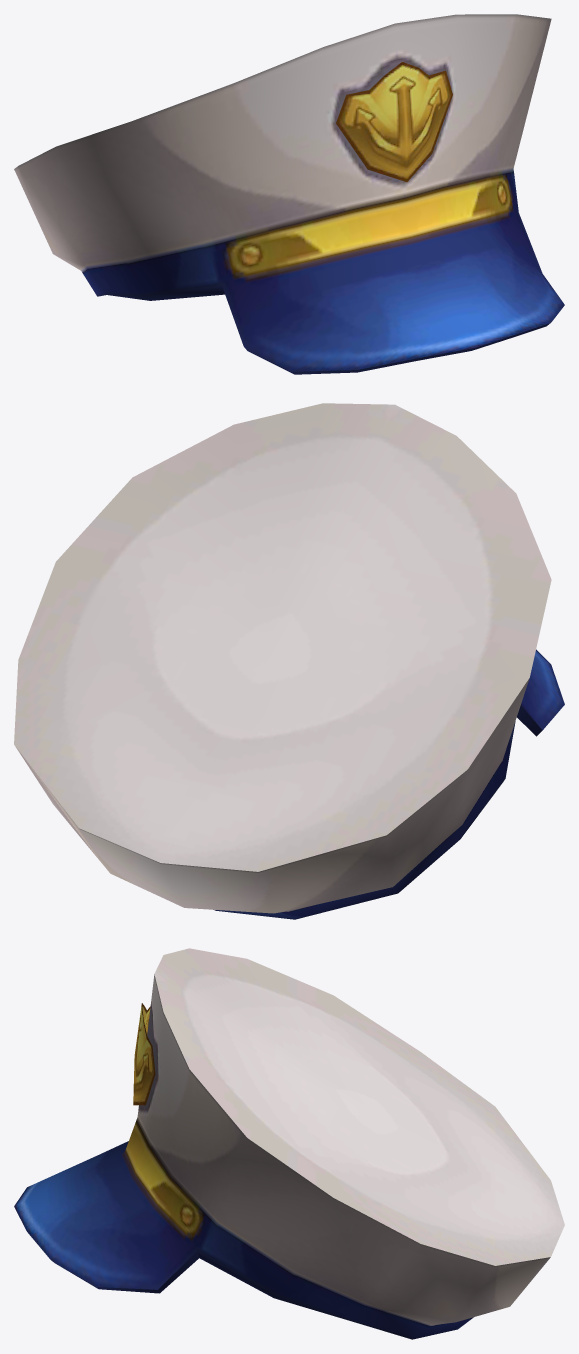
File: helm9008.fbx
3 renders of one model, top to bottom at view 1: azimuth 30°, elevation 25°; view 2: azimuth 150°, elevation 25°; view 3: azimuth 270°, elevation 25°, orthographic. The views are drawn at different scales.
Visible parts, largest first — view 1: helm_9008; view 2: helm_9008; view 3: helm_9008.
Boxes of the visible parts, bbox=[...] form: helm_9008: bbox=[14, 14, 564, 374]; helm_9008: bbox=[14, 403, 564, 919]; helm_9008: bbox=[14, 948, 564, 1339].
Bounding box in the file's own units: 0.3756 × 0.2839 × 0.4318.
